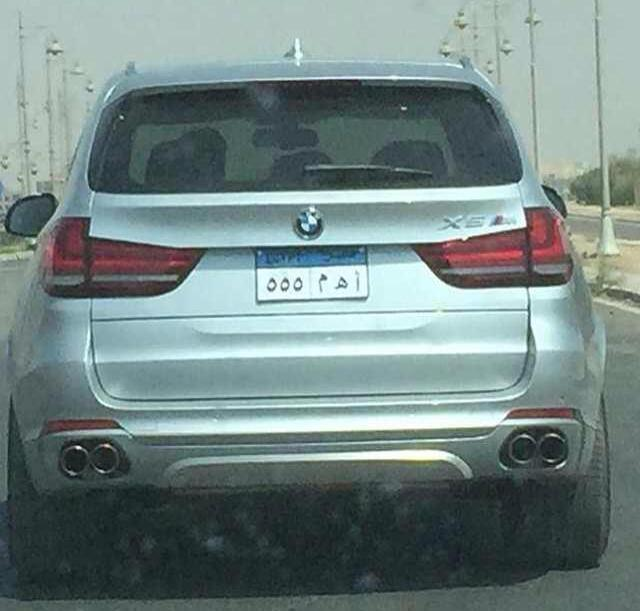5: (265, 274, 279, 294), (279, 274, 293, 292), (292, 274, 305, 293)
Heeh: (332, 272, 350, 292)
License Plate: (253, 245, 371, 304)
Meem: (315, 271, 329, 293)
alef: (352, 269, 363, 295)
car: (6, 50, 619, 600)
